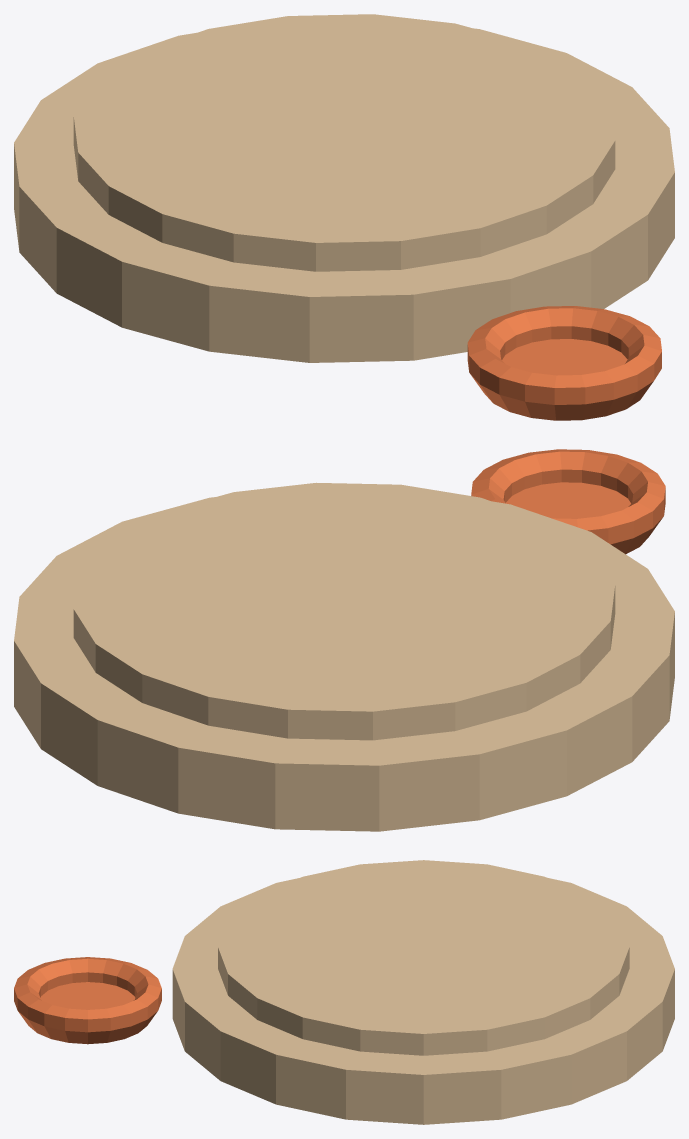
The model's file is Shrine.fbx.
3 renders of one model, top to bottom at view 1: azimuth 30°, elevation 25°; view 2: azimuth 150°, elevation 25°; view 3: azimuth 270°, elevation 25°, orthographic. The views are drawn at different scales.
Parts seen in each view (by area): view 1: Icosphere, Icosphere.001; view 2: Icosphere, Icosphere.001; view 3: Icosphere, Icosphere.001.
Part boxes in pixels (<box>): Icosphere: <box>14,14,674,362</box>; Icosphere.001: <box>467,306,661,420</box>; Icosphere: <box>14,482,674,831</box>; Icosphere.001: <box>471,449,665,554</box>; Icosphere: <box>172,860,674,1124</box>; Icosphere.001: <box>14,957,161,1044</box>.
Size of the model in its own units: 302 by 47.52 by 397.
